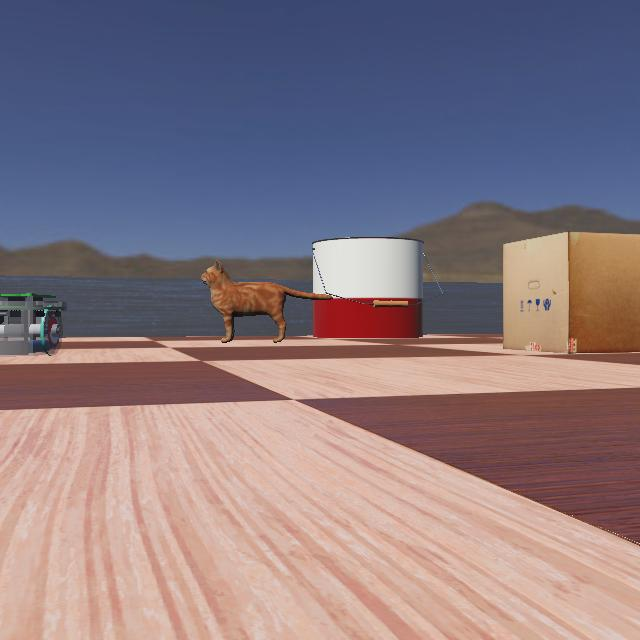cardboard-box: (495, 230, 639, 354)
cat: (197, 258, 333, 342), (197, 258, 333, 342), (197, 258, 333, 342)
paint-bucket: (310, 235, 450, 338), (310, 235, 450, 338)
